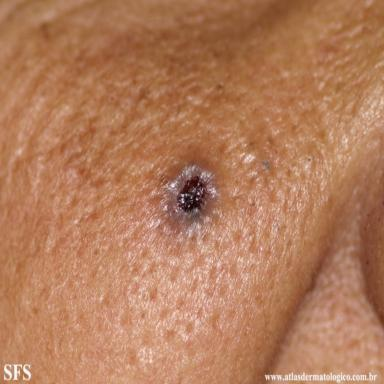basal-cell-carcinoma: (161, 160, 222, 238)
